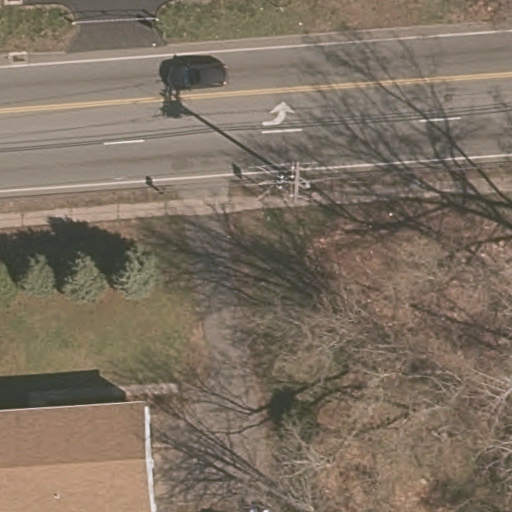DT: (257, 158, 316, 213)
